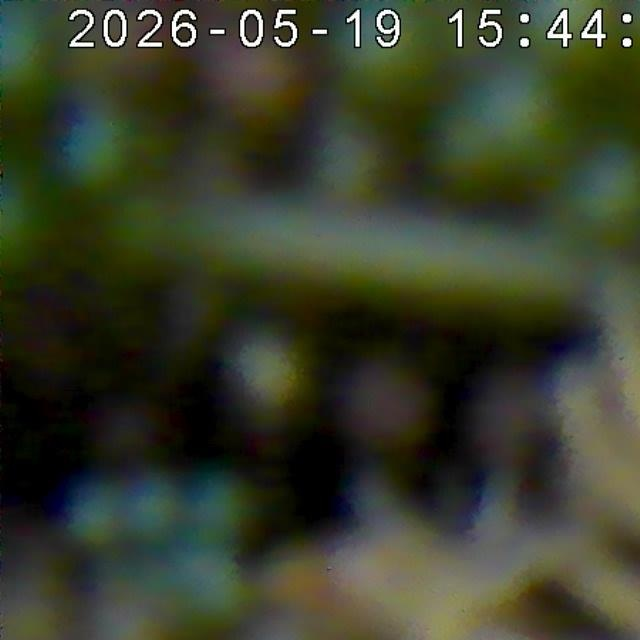SeaGrape: (438, 51, 576, 185), (214, 321, 316, 426), (336, 356, 439, 454), (52, 99, 146, 199), (558, 137, 640, 246), (99, 186, 192, 278), (163, 541, 255, 633), (180, 467, 263, 551), (0, 169, 60, 281), (115, 468, 195, 551), (0, 2, 59, 111), (61, 474, 136, 552)
